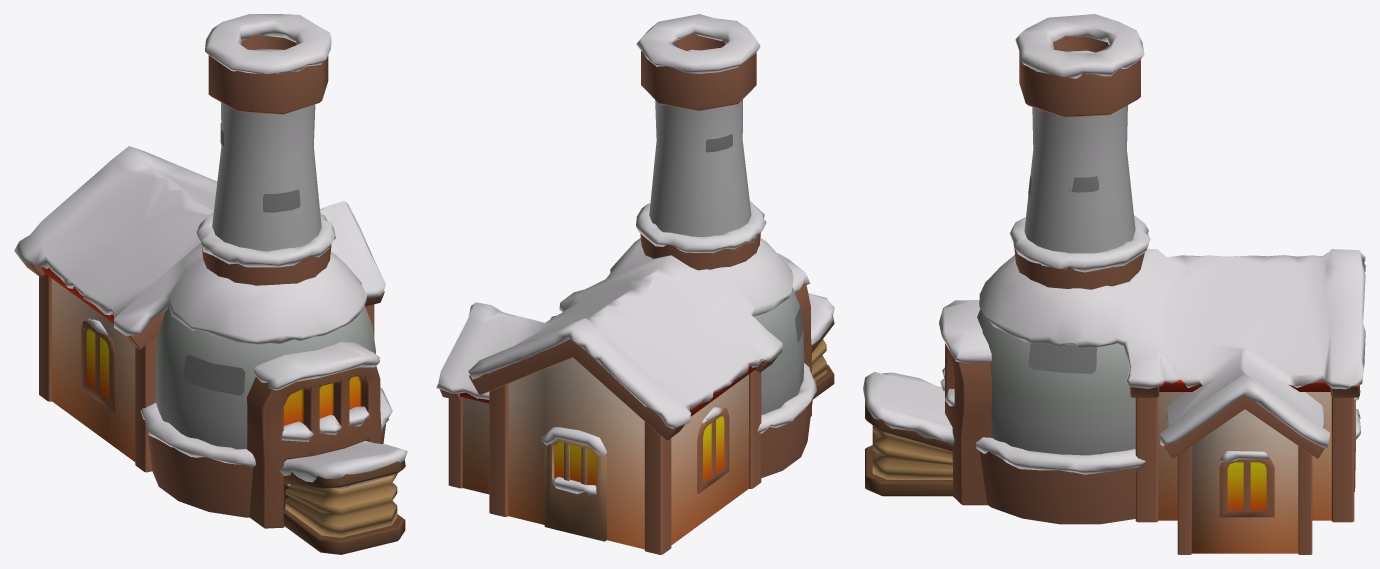
File: BuildingSnowy_1.fbx
3 views of the same model, side by side, from view 1: azimuth 30°, elevation 25°; view 2: azimuth 150°, elevation 25°; view 3: azimuth 270°, elevation 25° (orthographic). The views are drawn at different scales.
Parts seen in each view (by area): view 1: BuildingSnowy_1; view 2: BuildingSnowy_1; view 3: BuildingSnowy_1.
Boxes of the visible parts, box(x1,y1,x2,y2) form: BuildingSnowy_1: box(14, 14, 407, 554); BuildingSnowy_1: box(436, 14, 834, 554); BuildingSnowy_1: box(863, 14, 1365, 554).
Bounding box in the file's own units: 308 × 458 × 473.
